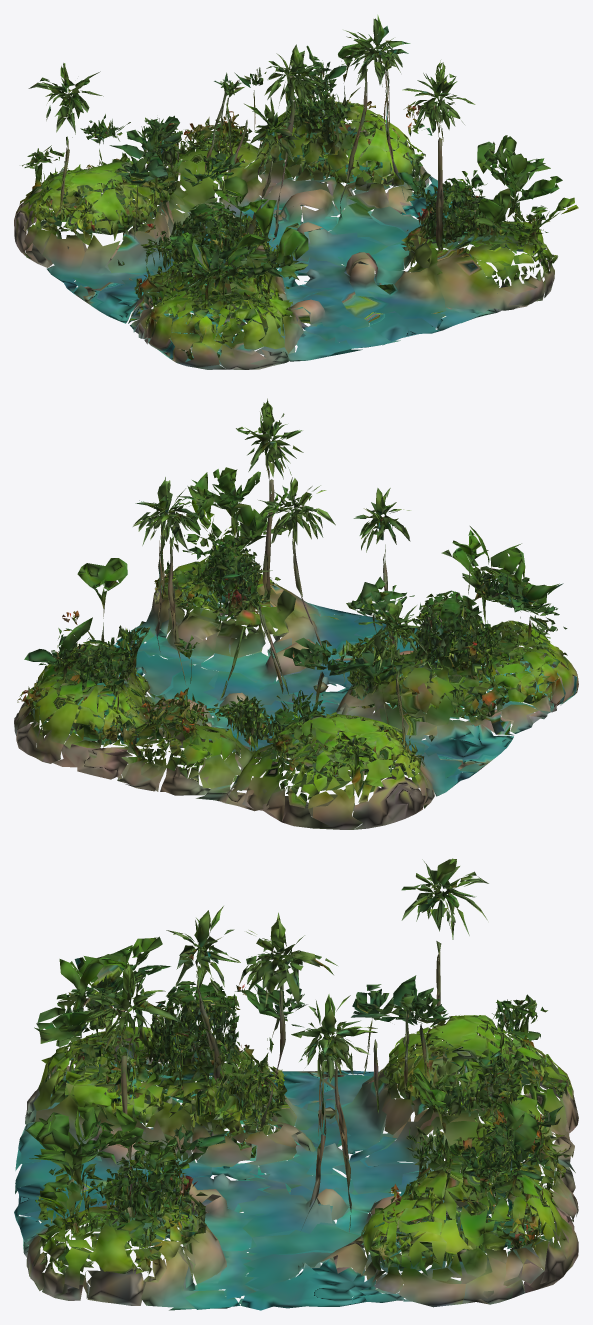
File: jungle_river_opt.glb
3 views of the same model, one above another, from view 1: azimuth 30°, elevation 25°; view 2: azimuth 150°, elevation 25°; view 3: azimuth 270°, elevation 25° (orthographic). The views are drawn at different scales.
Parts seen in each view (by area): view 1: jungle_river_opt; view 2: jungle_river_opt; view 3: jungle_river_opt.
Part boxes in pixels (x1,y1,x2,y2): jungle_river_opt: (14,14,578,369); jungle_river_opt: (14,398,578,829); jungle_river_opt: (14,858,578,1310).
Size of the model in its own units: 1.99 by 1.12 by 1.96.
1 material, 1 textured.
